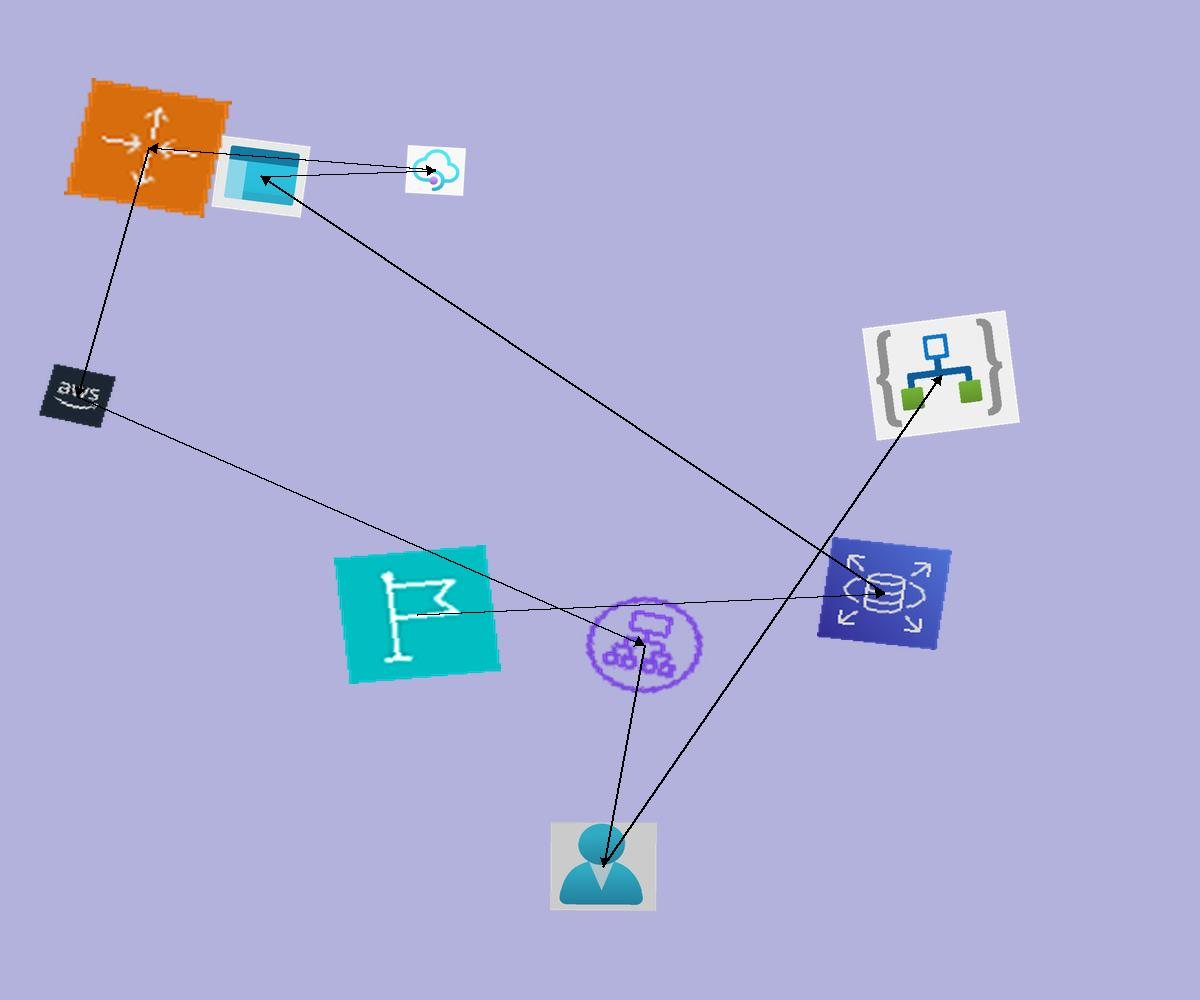AWS-Cloud-logo: (38, 363, 117, 429)
AWS-RDS: (817, 537, 952, 650)
AWS-Region: (334, 545, 501, 684)
AWS-Res_Elastic-Load-Balancing_Application-Load-Balancer: (566, 580, 723, 710)
AWS-Scaling-group: (64, 78, 232, 218)
Azure_api_gateway: (405, 145, 466, 196)
Azure_integration-204-Logic-Apps: (862, 310, 1020, 441)
Azure_management-portal: (211, 135, 311, 218)
Azure_users: (550, 822, 657, 911)
